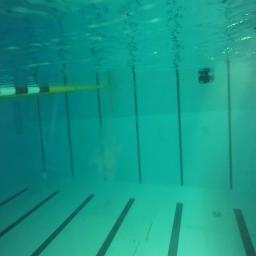Side: (197, 70, 214, 85), (198, 73, 214, 84)
